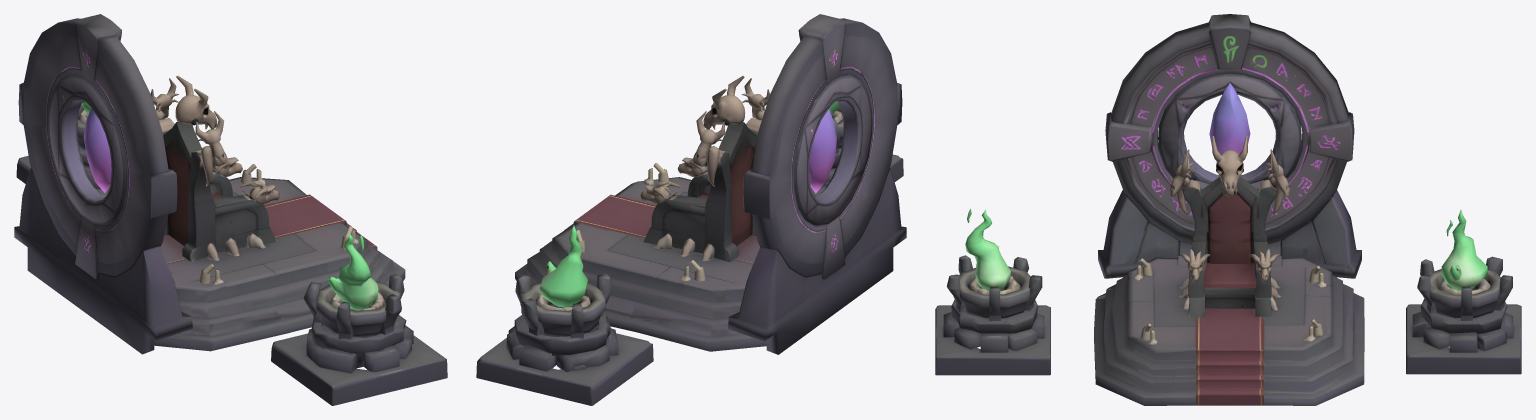
Rendered from Trono.fbx.
3 views of the same model, side by side, from view 1: azimuth 30°, elevation 25°; view 2: azimuth 150°, elevation 25°; view 3: azimuth 270°, elevation 25° (orthographic). The views are drawn at different scales.
Parts seen in each view (by area): view 1: tripo_node_701529d5; view 2: tripo_node_701529d5; view 3: tripo_node_701529d5.
Part boxes in pixels (bbox=[...]): tripo_node_701529d5: bbox=[14, 14, 447, 405]; tripo_node_701529d5: bbox=[476, 14, 906, 405]; tripo_node_701529d5: bbox=[935, 14, 1521, 405].
Bounding box in the file's own units: 50.44 × 50.34 × 99.95.
Materials: 1 (1 with a texture image).
